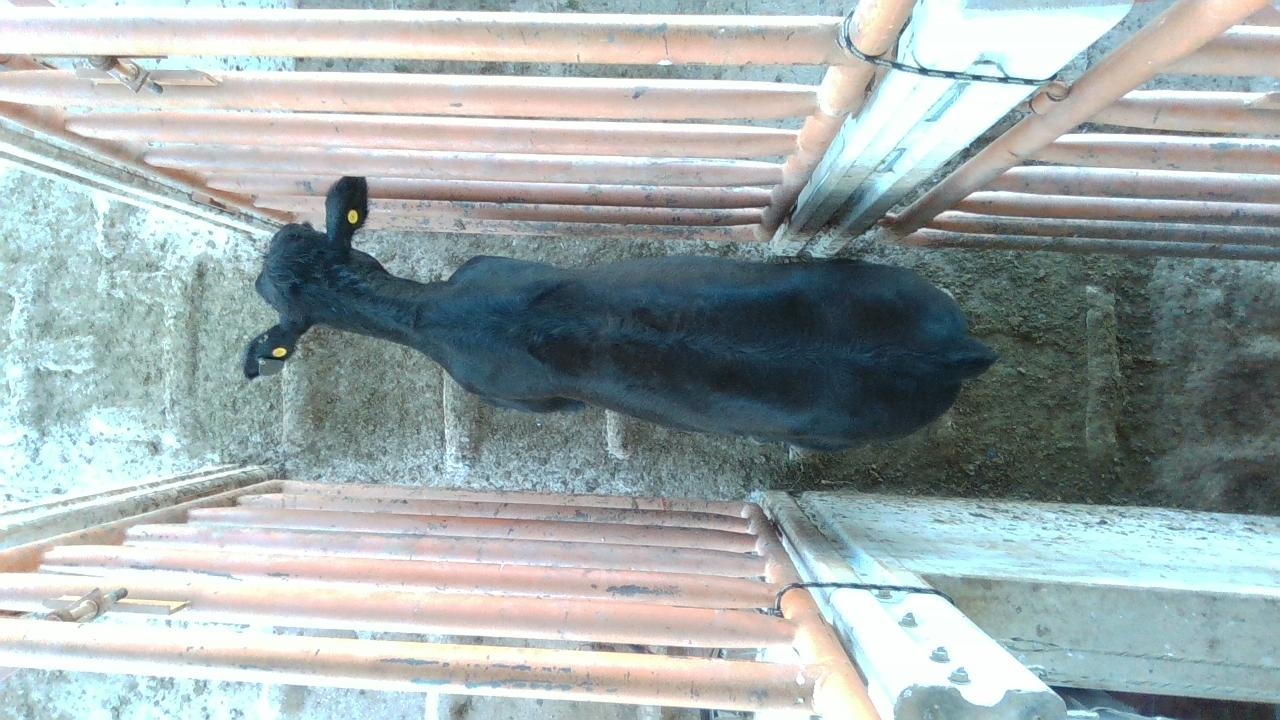cattle: (242, 173, 1000, 451)
